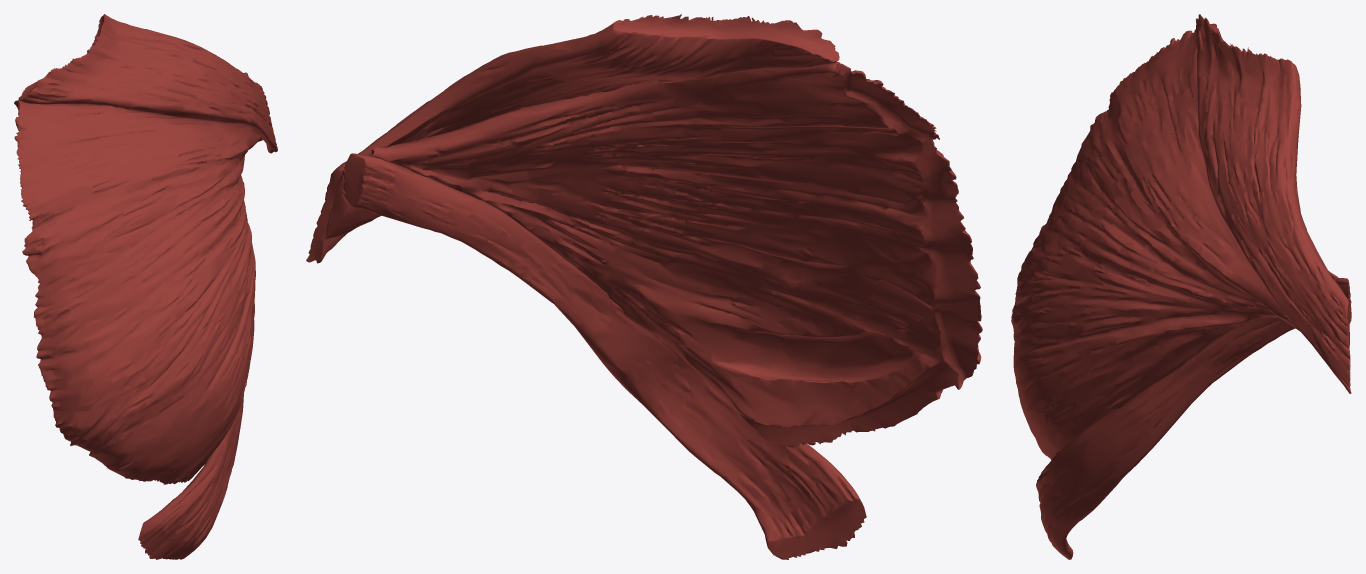
The model's file is explorar-pectoralis_major.glb.
The picture shows the model from 3 angles, left to right: view 1: azimuth 30°, elevation 25°; view 2: azimuth 150°, elevation 25°; view 3: azimuth 270°, elevation 25°; orthographic projection. The views are drawn at different scales.
Visible parts, largest first — view 1: pectoralis_major__porcion_esternocostal, pectoralis_major__porcion_clavicular, pectoralis_major__porcion_abdominal; view 2: pectoralis_major__porcion_esternocostal, pectoralis_major__porcion_abdominal, pectoralis_major__porcion_clavicular; view 3: pectoralis_major__porcion_esternocostal, pectoralis_major__porcion_clavicular, pectoralis_major__porcion_abdominal.
Part boxes in pixels (x1,y1,x2,y2): pectoralis_major__porcion_esternocostal: [14, 100, 262, 484]; pectoralis_major__porcion_clavicular: [18, 14, 277, 153]; pectoralis_major__porcion_abdominal: [138, 72, 248, 559]; pectoralis_major__porcion_esternocostal: [325, 61, 982, 447]; pectoralis_major__porcion_abdominal: [343, 153, 866, 559]; pectoralis_major__porcion_clavicular: [306, 14, 839, 263]; pectoralis_major__porcion_esternocostal: [1011, 29, 1349, 459]; pectoralis_major__porcion_clavicular: [1196, 14, 1351, 393]; pectoralis_major__porcion_abdominal: [1036, 278, 1351, 559].
Size of the model in its own units: 0.1906 by 0.2298 by 0.1388.
